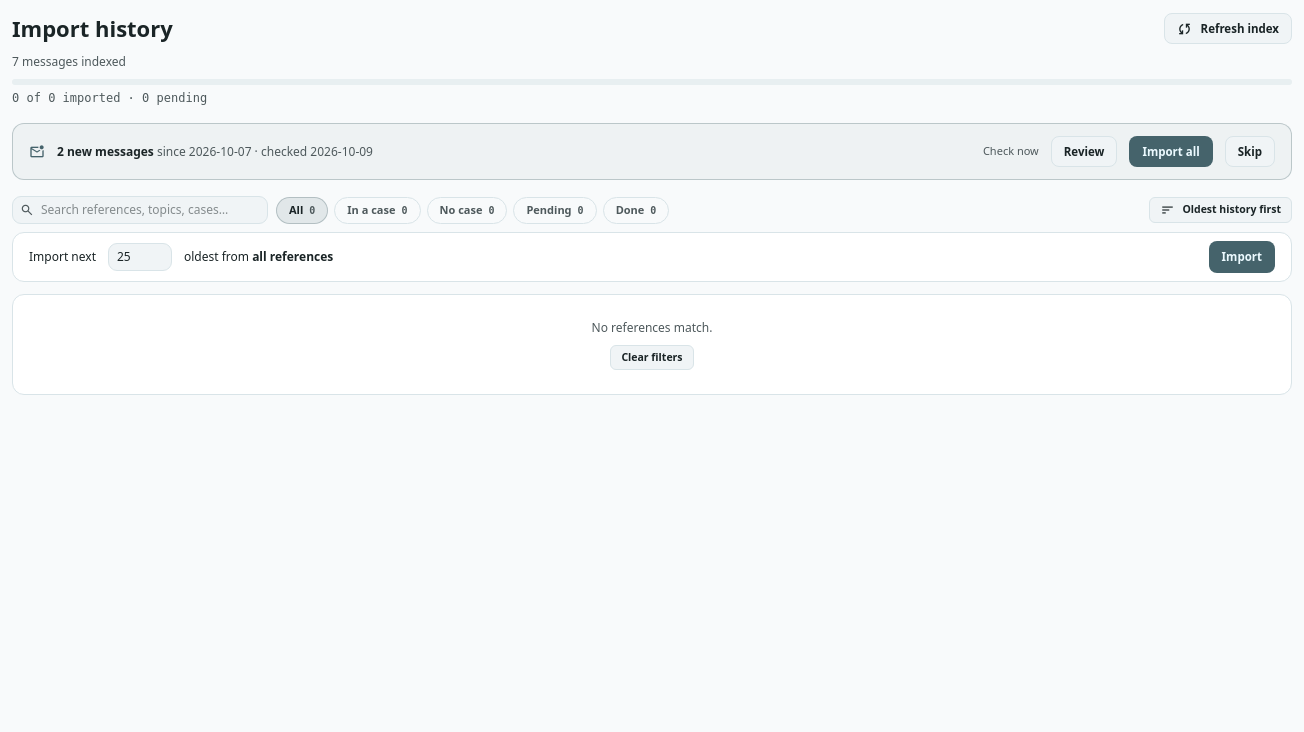
Test: banner: announces new mail and imports all of it
The width and height of the screenshot is (1304, 732).
Expected: the text "2 new messages" is shown, [57, 143, 154, 160]
Step 1. Click the button "Import all" → (1171, 152), box [1129, 136, 1213, 167]
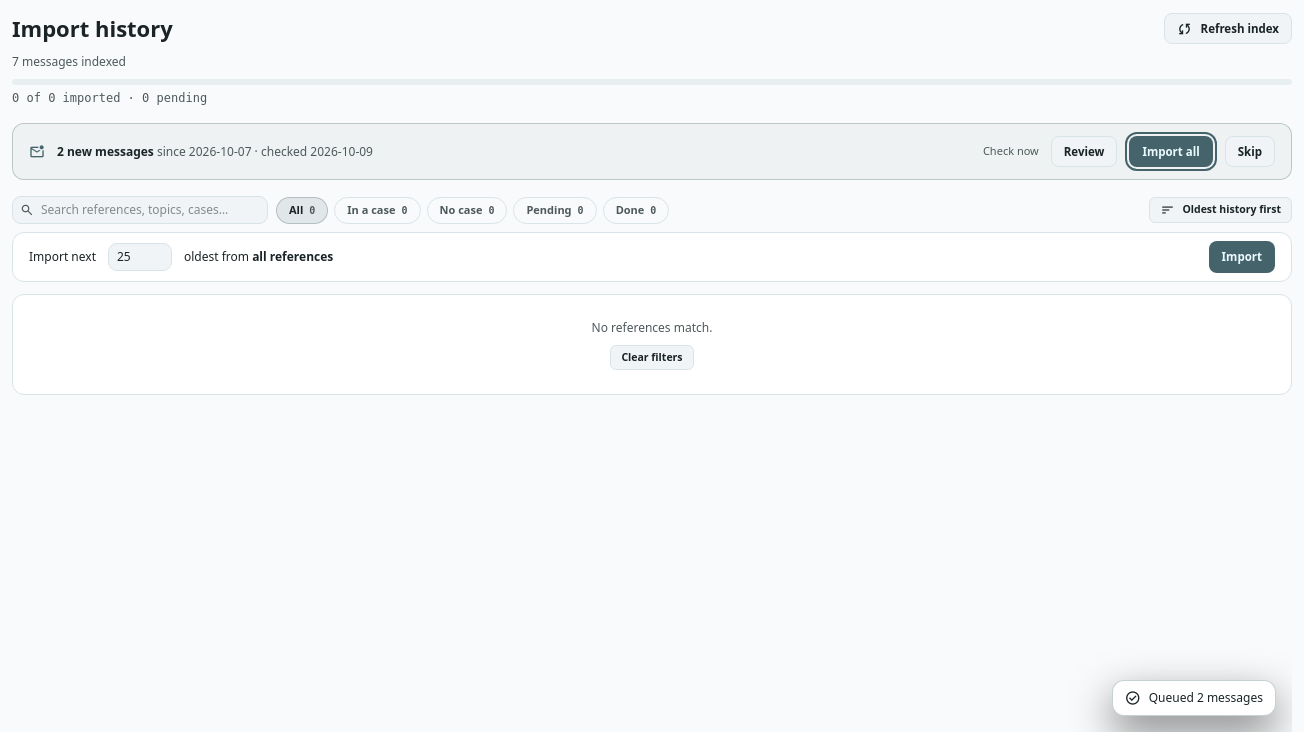
Result: the message reads "Queued 2 messages" at [1149, 689, 1263, 706]
